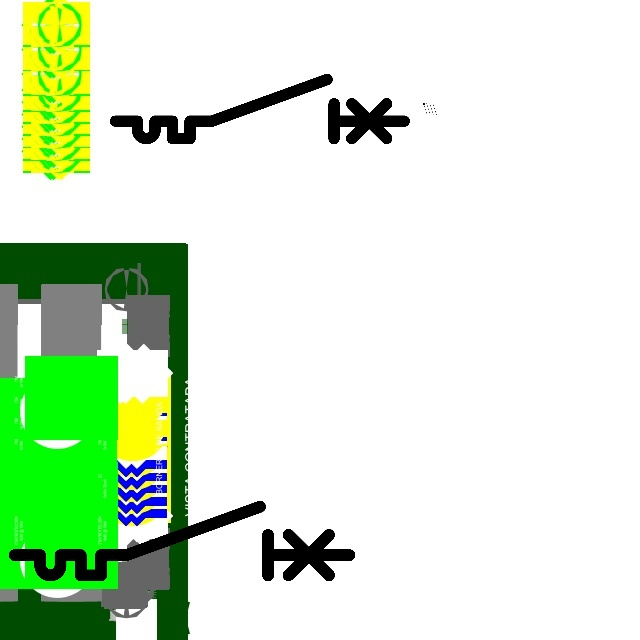interruptor_termomagnetico: (6, 498, 357, 584), (108, 72, 412, 146)
